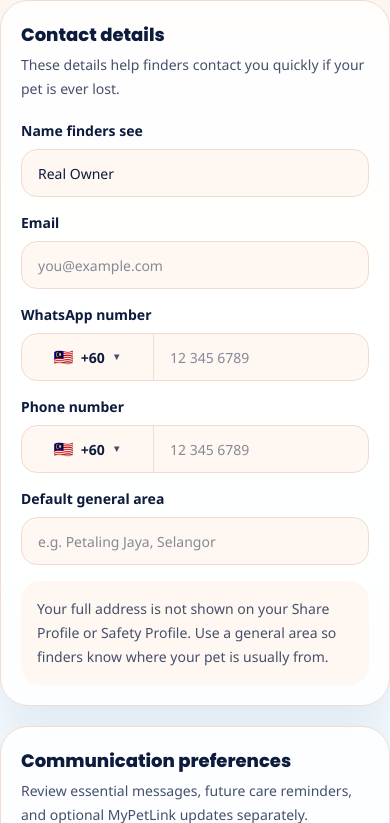
Scenario: SettingsPanel loading behaviour › saves from the mobile action bar and resets the dirty baseline on success
Replace the text in the field showing "Real Owner" with "Updated Owner": (195, 173) [21, 149, 369, 197]
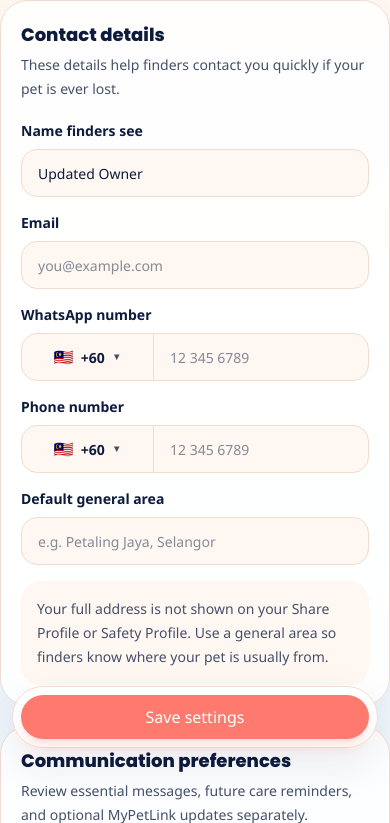
Click the button "Save settings": (195, 717) [21, 695, 369, 739]
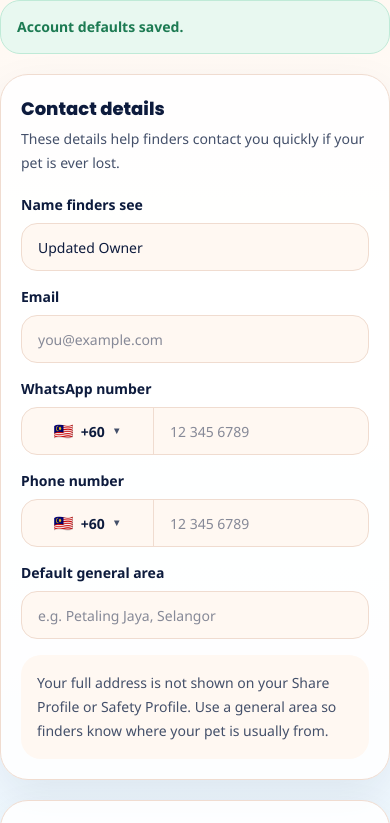
Expected: the button "Save settings" is gone
Expected: the text "Account defaults saved." is shown, [0, 0, 389, 54]
